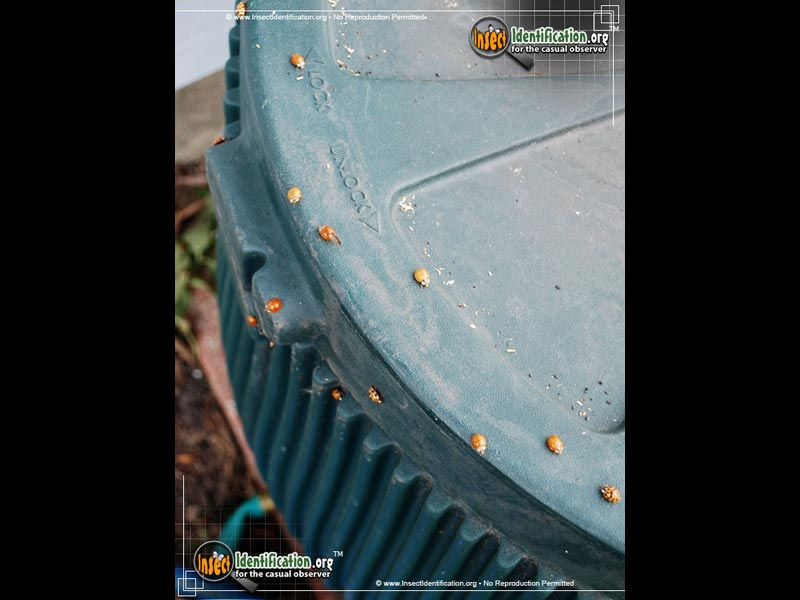Asian Multicolored Lady Beetle: (309, 221, 351, 255), (596, 475, 627, 516), (533, 431, 571, 464), (283, 48, 316, 75), (465, 429, 494, 457), (204, 125, 234, 149), (408, 264, 432, 293), (363, 381, 386, 410), (280, 181, 305, 206), (321, 380, 345, 405), (259, 299, 285, 318)
